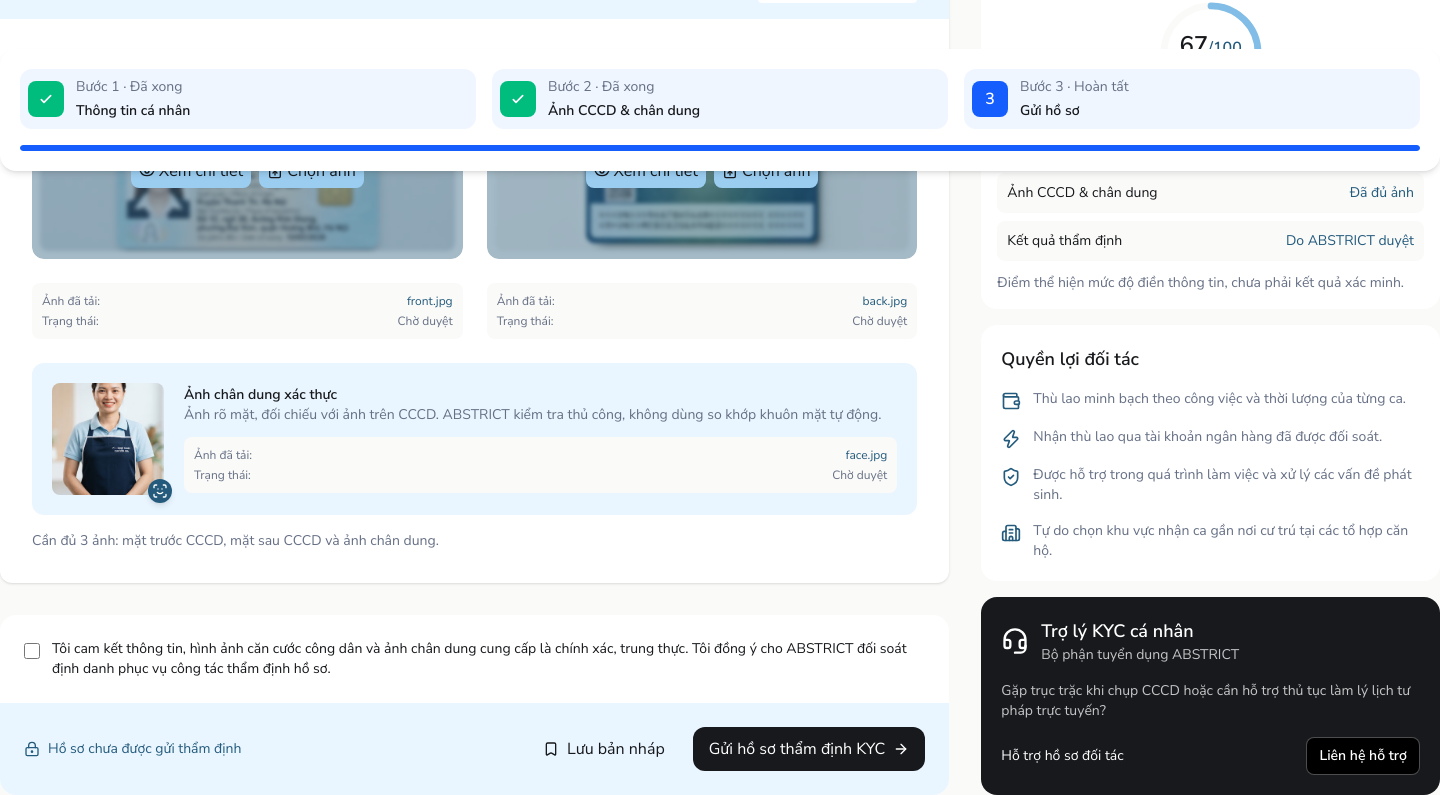
Test: Partner screens › validates CCCD and consent before submitting a complete dossier
(page scrolled)
Click the button "Gửi hồ sơ thẩm định KYC": (809, 749) top-left (693, 727), bottom-right (925, 771)
(page scrolled)
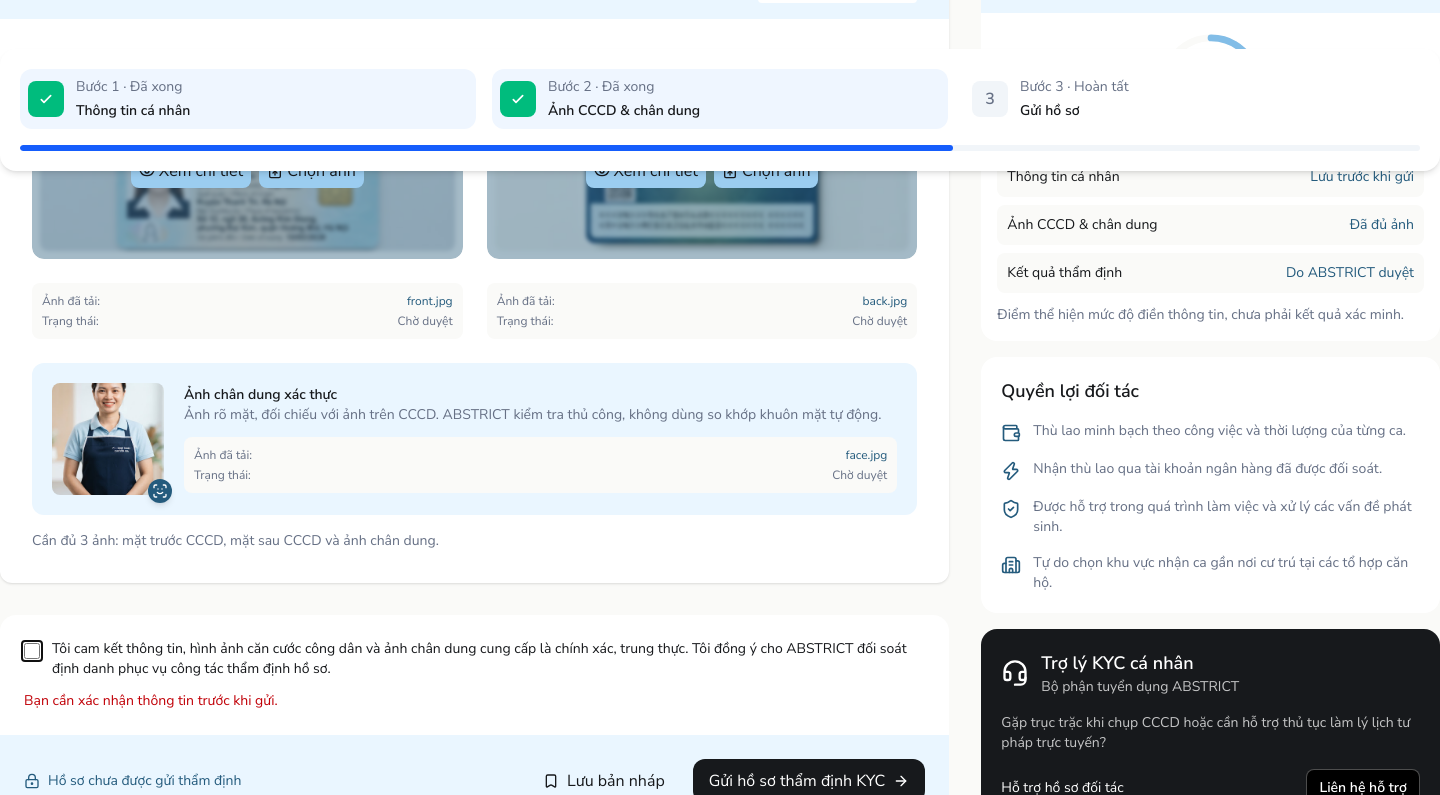
Expected: the text "Bạn cần xác nhận thông tin trước khi gửi." is shown, top-left (24, 691), bottom-right (278, 710)
